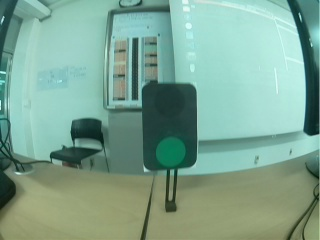green_light: (146, 83, 195, 167)
